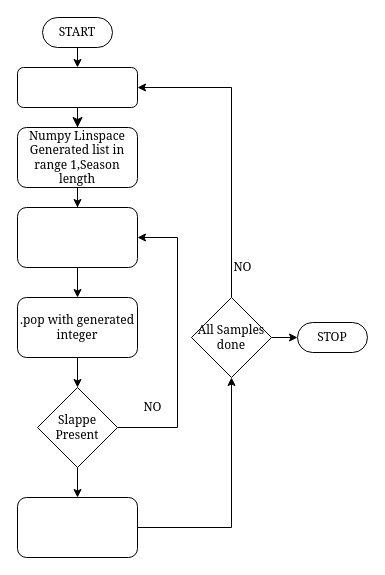
The diagram is 385 pixels wide and 575 high, and some of its shapes have lost their labels. The centre of each missing label's shape, as x and y in pixels:
Analyse: point (77, 527)
Enter Length of Season 1 in Episodes: point (77, 87)
Random int generated in range of Numpy list: point (77, 237)
